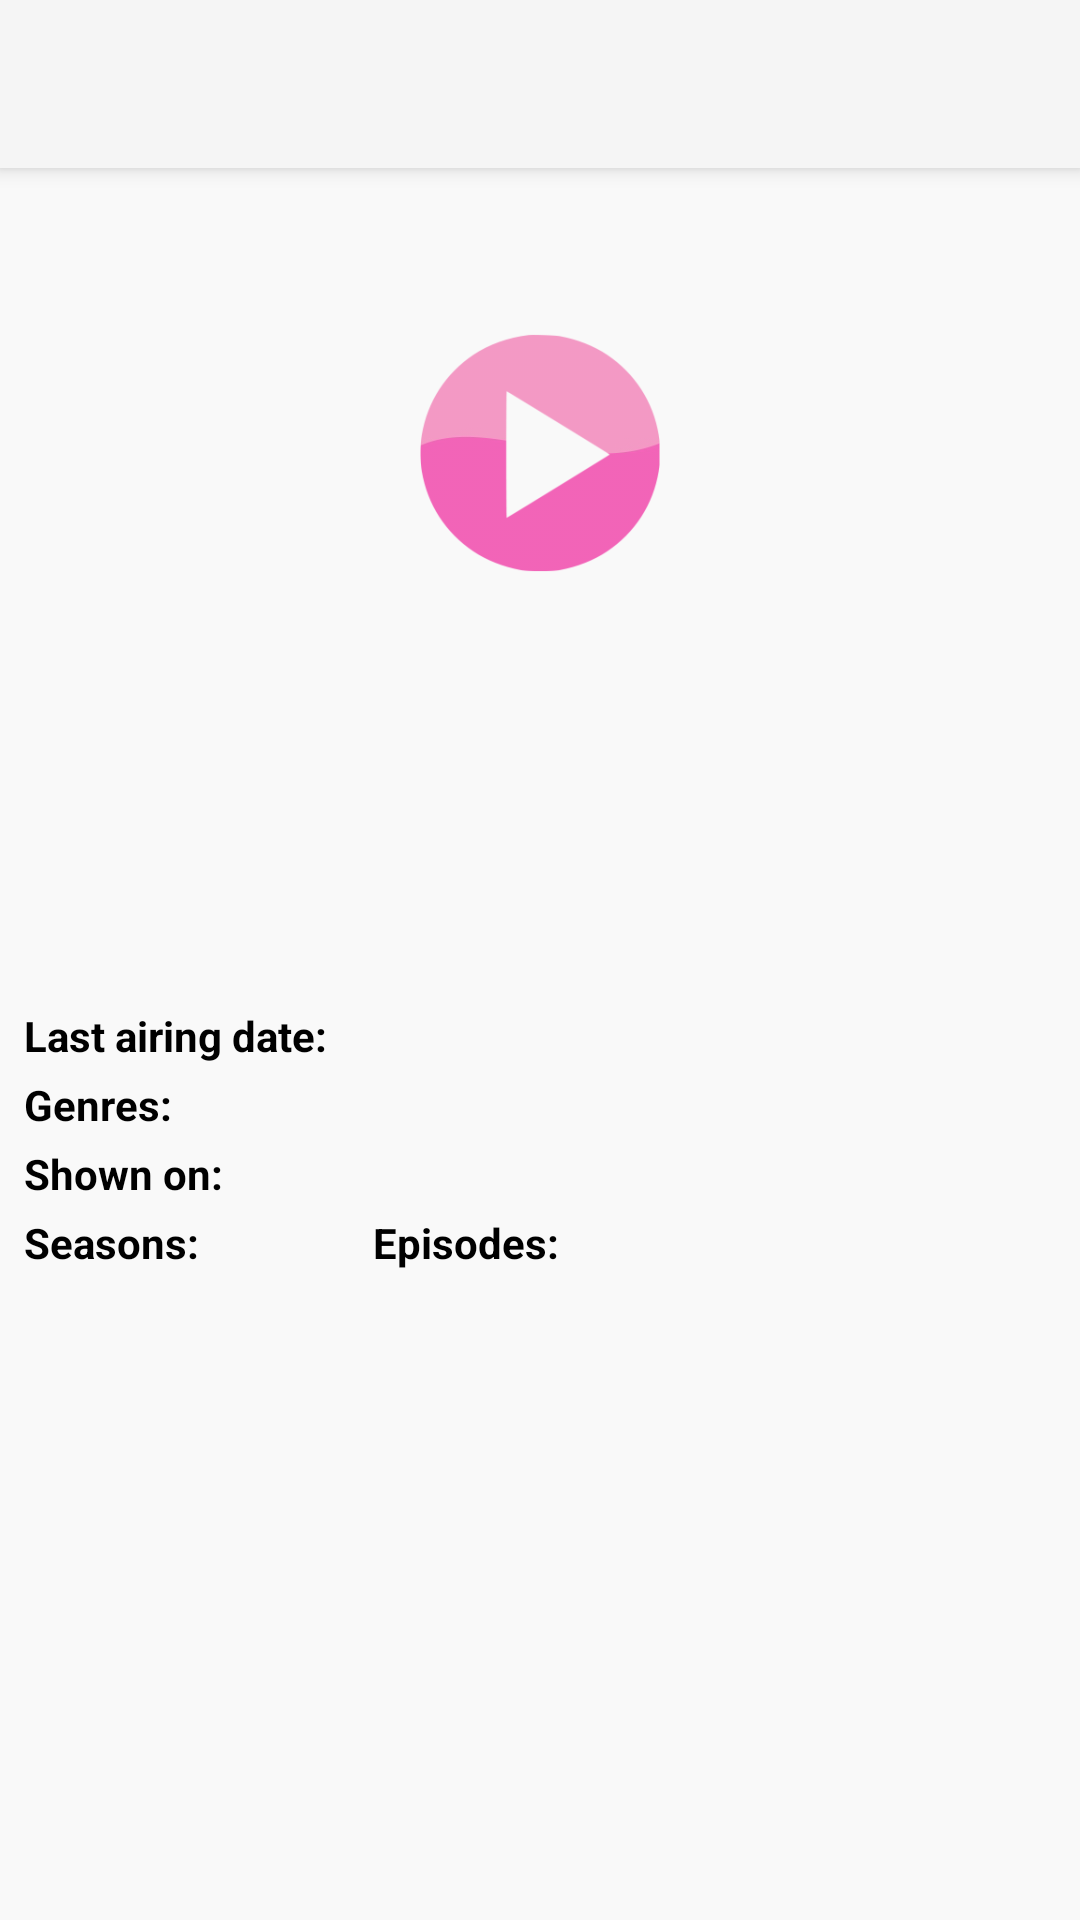

Point at icon controls on the screen. Image size 1080w x 1920h, points as (x=x, y=y).
play: (x=540, y=453)
